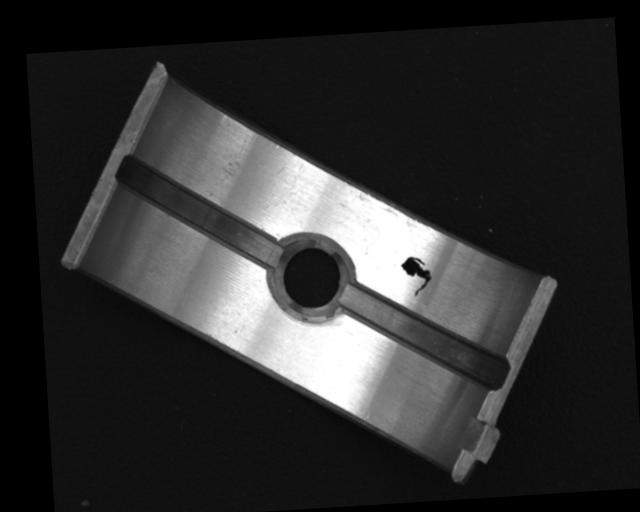blot: (399, 254, 433, 299)
gap: (115, 149, 284, 276), (341, 275, 507, 400)
hole: (277, 239, 350, 319)
